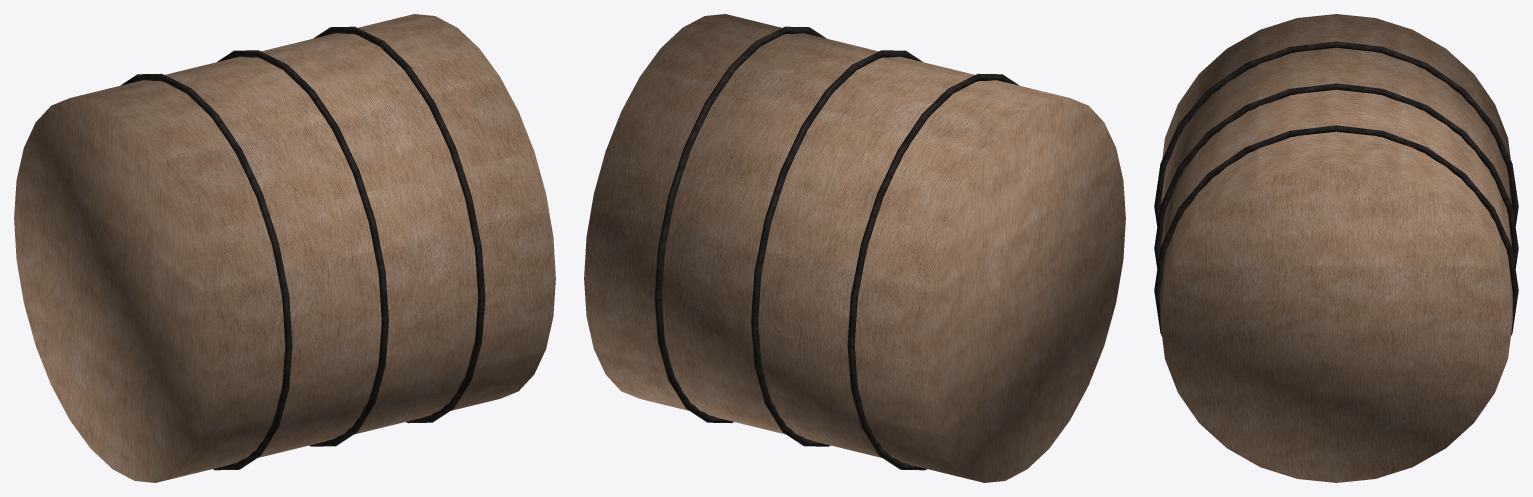
File: prop_haybale_v2.glb
The picture shows the model from 3 angles, left to right: view 1: azimuth 30°, elevation 25°; view 2: azimuth 150°, elevation 25°; view 3: azimuth 270°, elevation 25°; orthographic projection. The views are drawn at different scales.
Visible parts, largest first — view 1: prop_haybale_v2; view 2: prop_haybale_v2; view 3: prop_haybale_v2.
Part boxes in pixels (left/top/right/bottom): prop_haybale_v2: left=14, top=14, right=555, bottom=482; prop_haybale_v2: left=584, top=14, right=1125, bottom=482; prop_haybale_v2: left=1154, top=14, right=1518, bottom=482.
Size of the model in its own units: 1.25 by 1.28 by 1.28.
2 materials, 2 textured.
